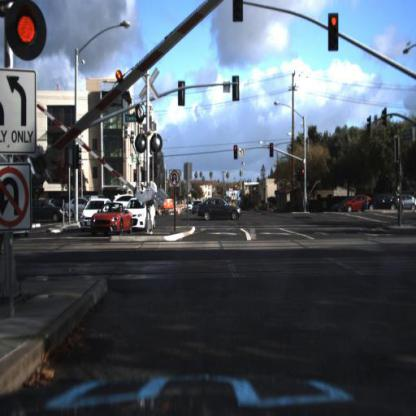car: (87, 203, 134, 234), (122, 194, 157, 231), (198, 198, 244, 222), (27, 199, 67, 226), (75, 198, 103, 232), (189, 196, 207, 218), (332, 196, 354, 214), (193, 199, 204, 215)
trafficLight: (12, 2, 44, 55), (233, 2, 245, 25)
trafficLight-Red: (328, 14, 340, 52), (269, 140, 277, 161), (301, 165, 307, 186), (233, 143, 239, 161), (271, 142, 275, 158)
